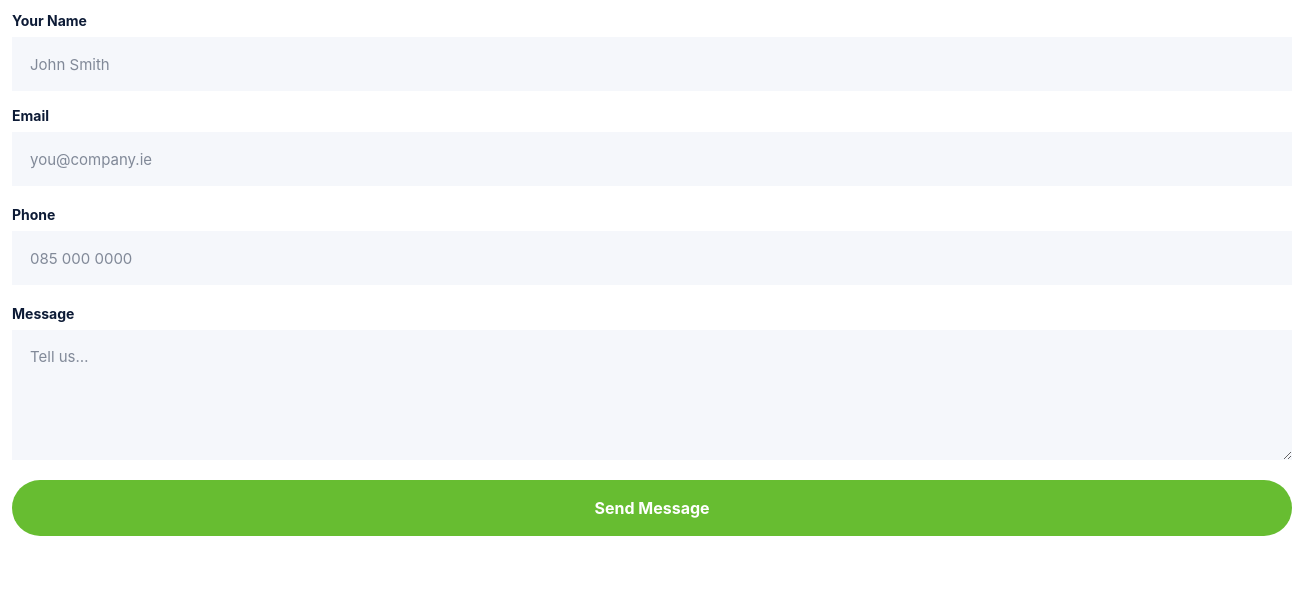
ContactForm (master 7.3) › 429 → the matching error copy, fields kept
The image size is (1304, 593).
In the field labelled "Your Name": (652, 64) [12,37,1292,91], type "Dinn Rí"
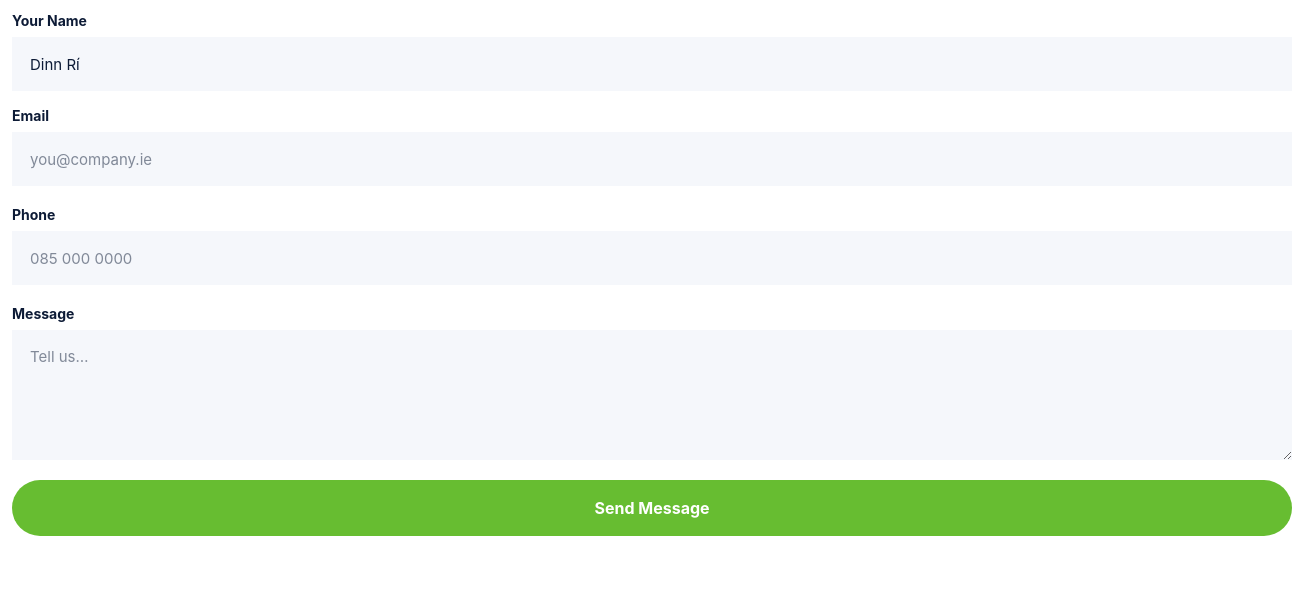
In the field labelled "Email": (652, 159) [12,132,1292,186], type "dinn@example.ie"
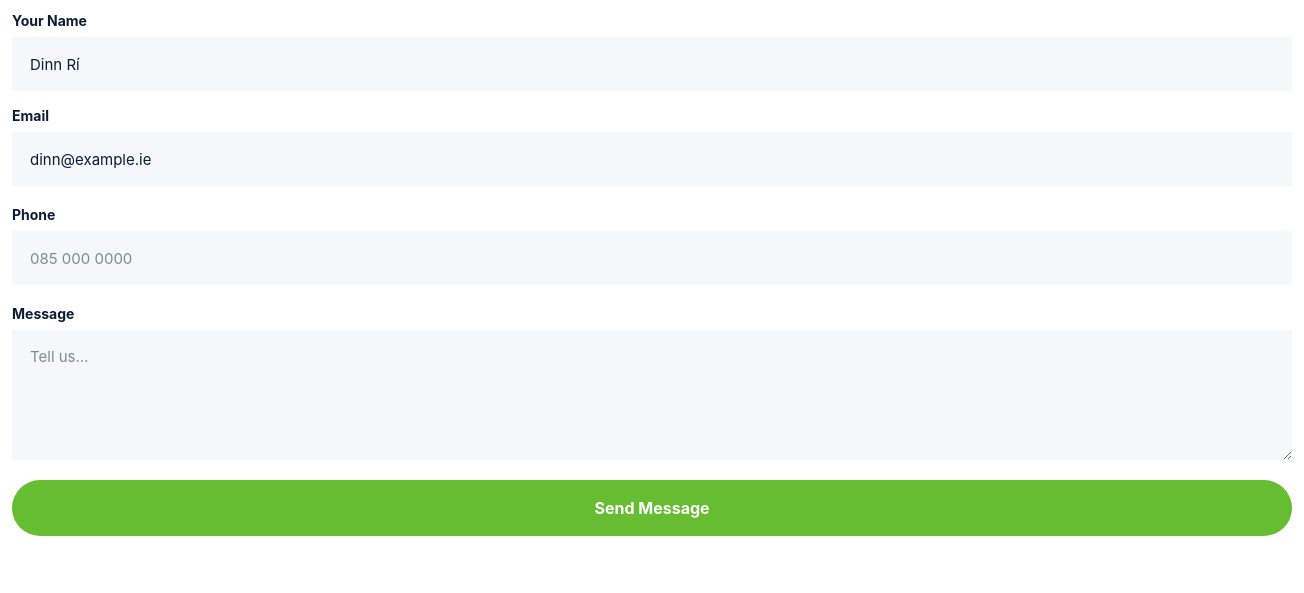
In the field labelled "Phone": (652, 258) [12,231,1292,285], type "085 123 4567"
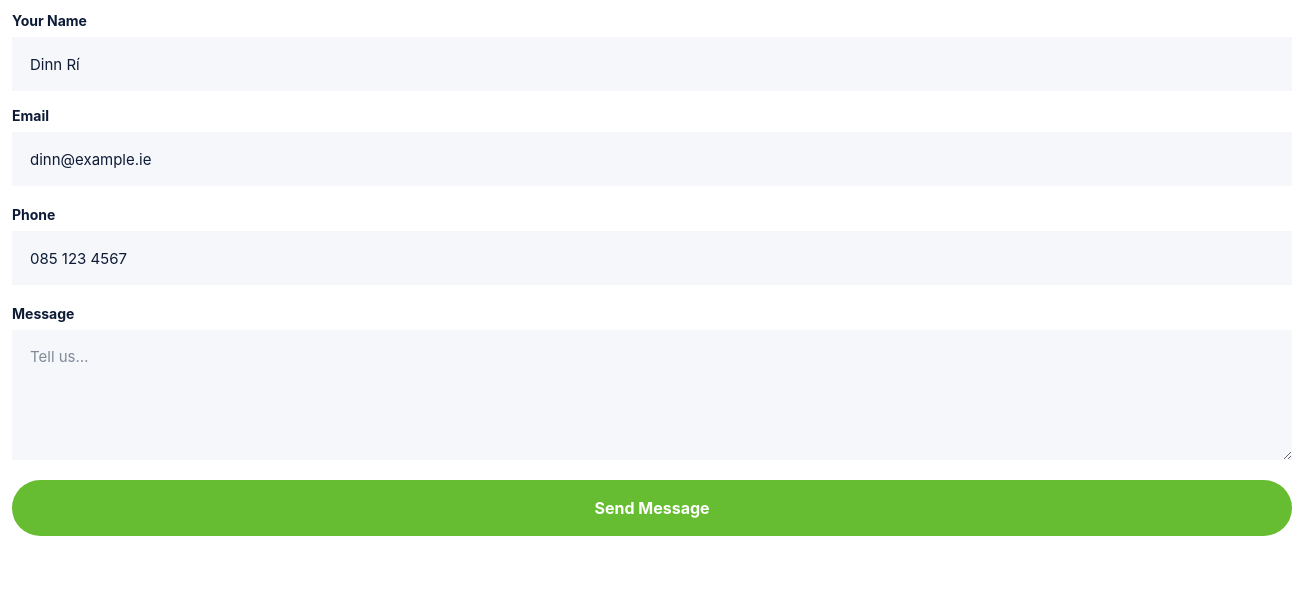
In the text box labelled "Message": (652, 395) [12,330,1292,460], type "Need a quote"
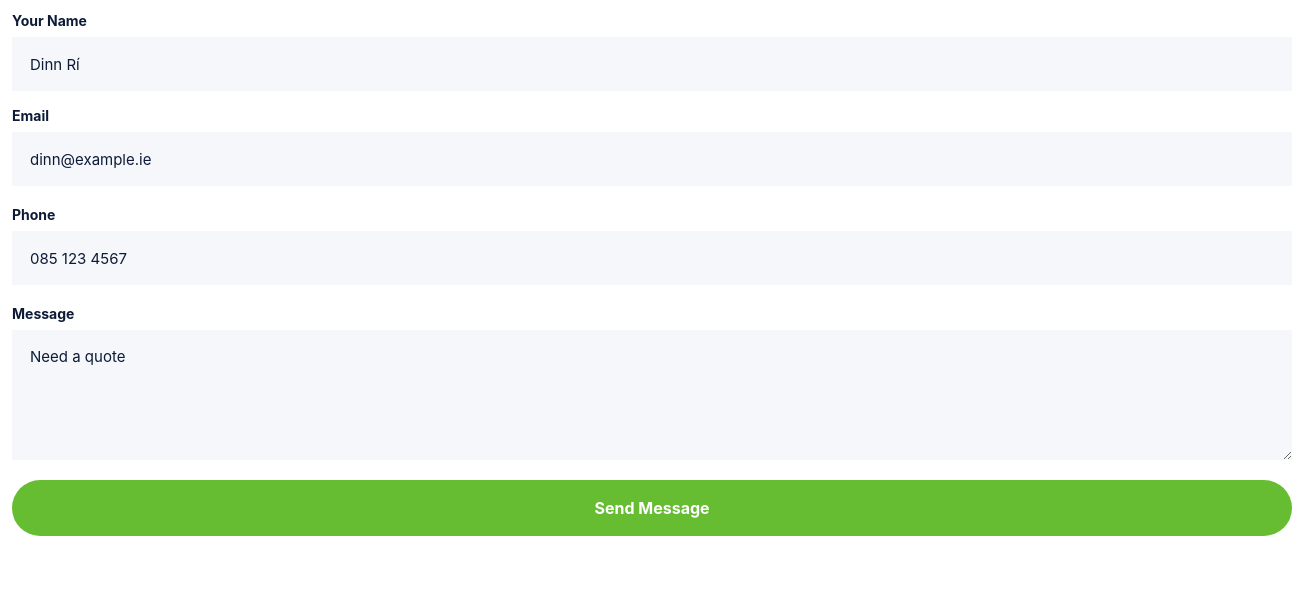
Click the button "Send Message": (652, 508) [12,480,1292,536]
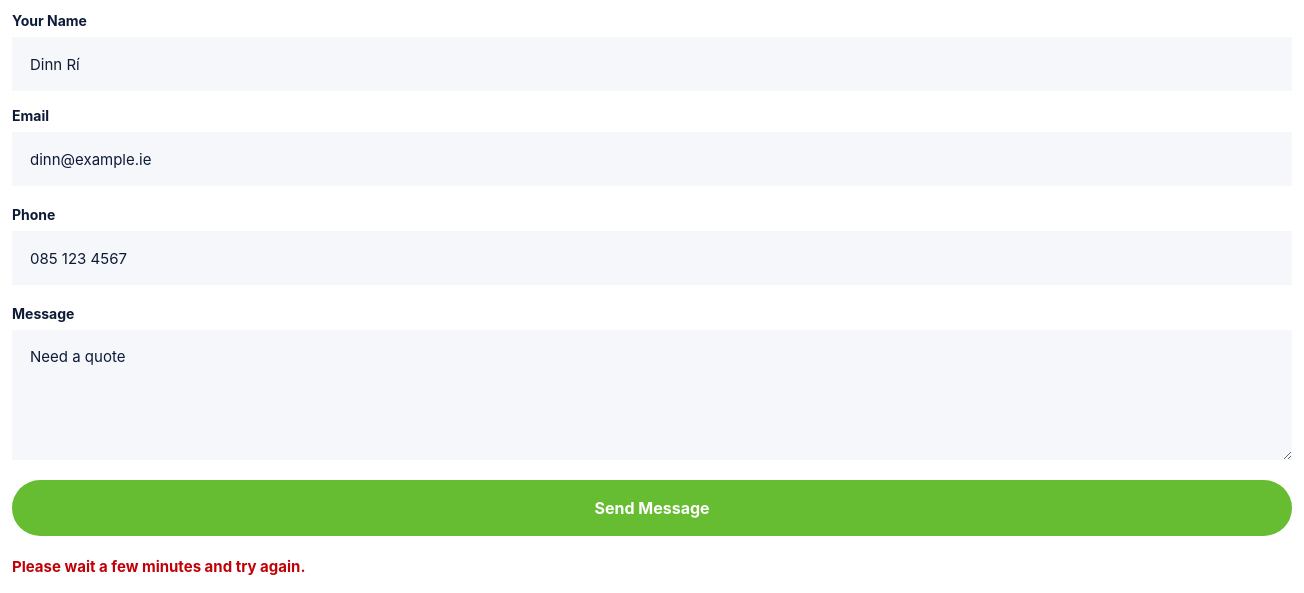
Now the text "Please wait a few minutes and try again." is shown, box [12,557,305,576]
